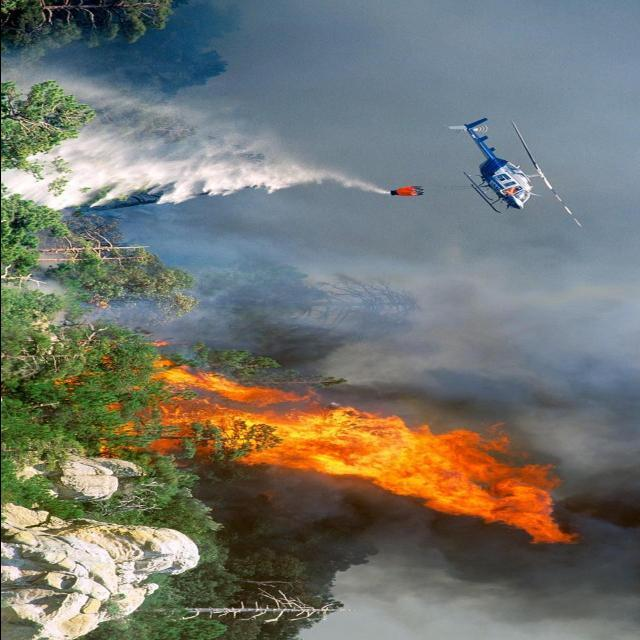Fire: (143, 355, 576, 547)
